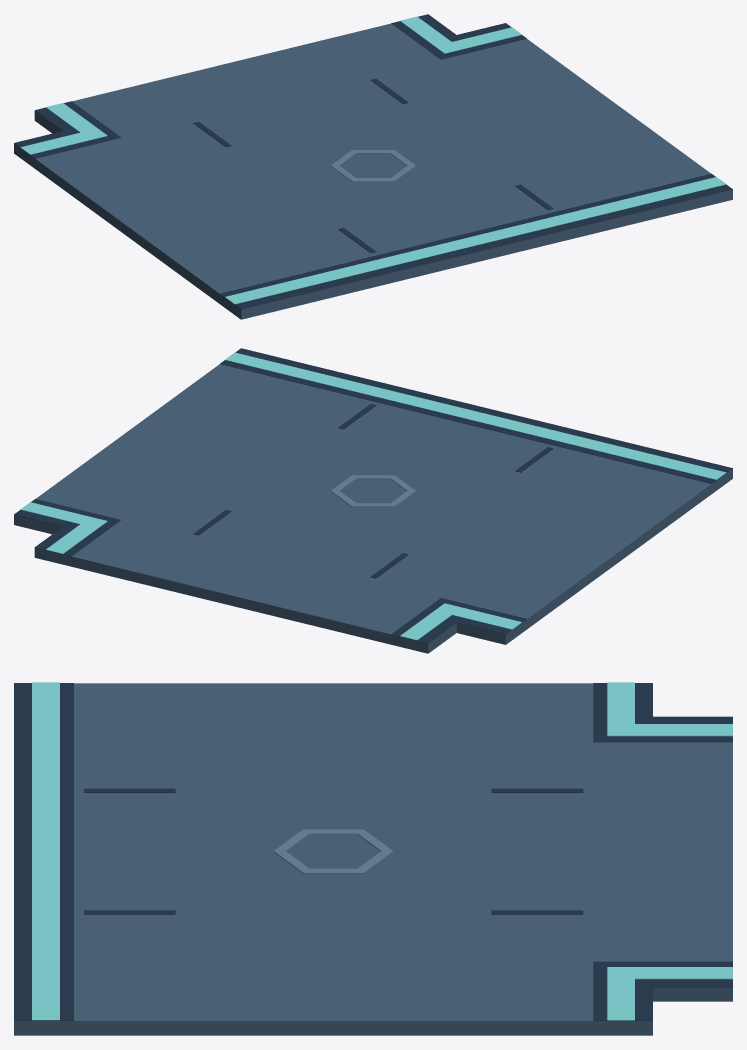
3 renders of one model, top to bottom at view 1: azimuth 30°, elevation 25°; view 2: azimuth 150°, elevation 25°; view 3: azimuth 270°, elevation 25°, orthographic. The views are drawn at different scales.
Visible parts, largest first — view 1: campus_walk_junction; view 2: campus_walk_junction; view 3: campus_walk_junction.
Boxes of the visible parts, box(x1,y1,x2,y2) form: campus_walk_junction: box(14, 14, 732, 319); campus_walk_junction: box(14, 348, 732, 653); campus_walk_junction: box(14, 682, 732, 1035).
Size of the model in its own units: 4 by 0.086 by 3.6.
1 material, 1 textured.
